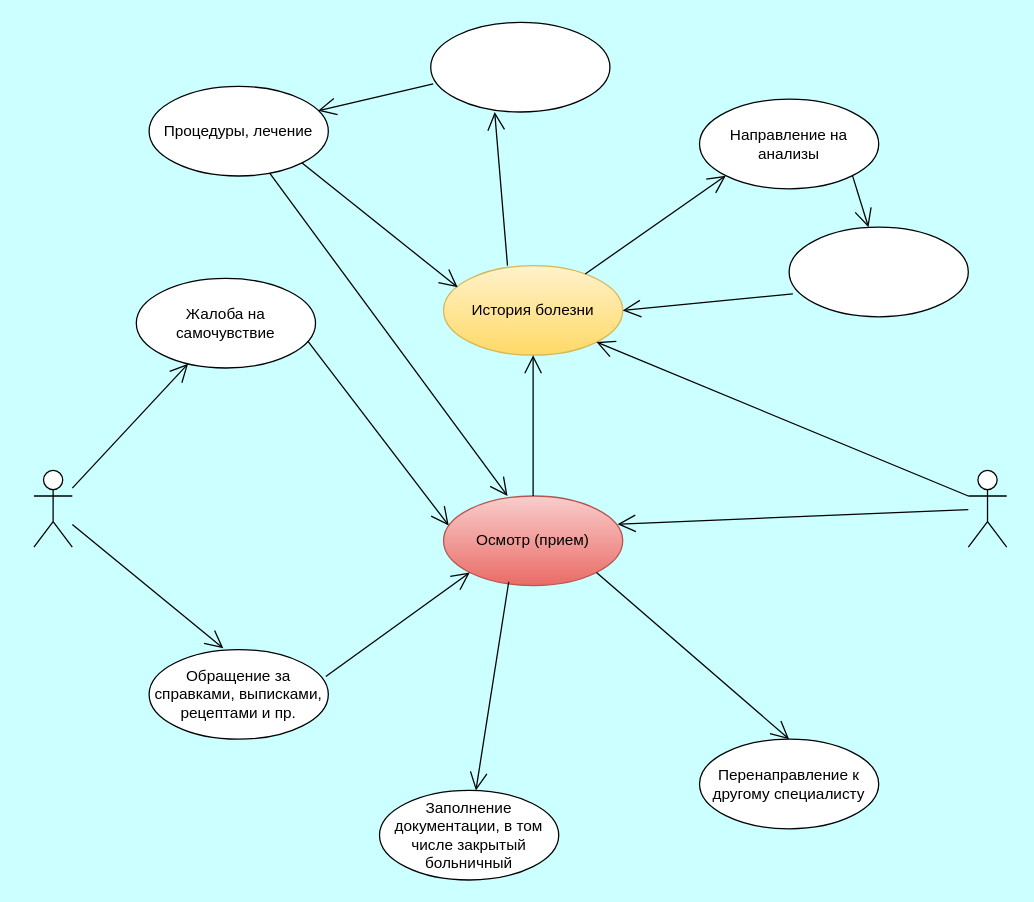
The diagram is 1034 pixels wide and 902 high, and some of its shapes have lost their labels. Here are the shapes that lost their labels. From the top down, the centre of each, then its label:
point (519, 66): Направление на лечение
point (878, 271): Результат анализов
point (52, 508): Пациент
point (987, 508): Доктор
